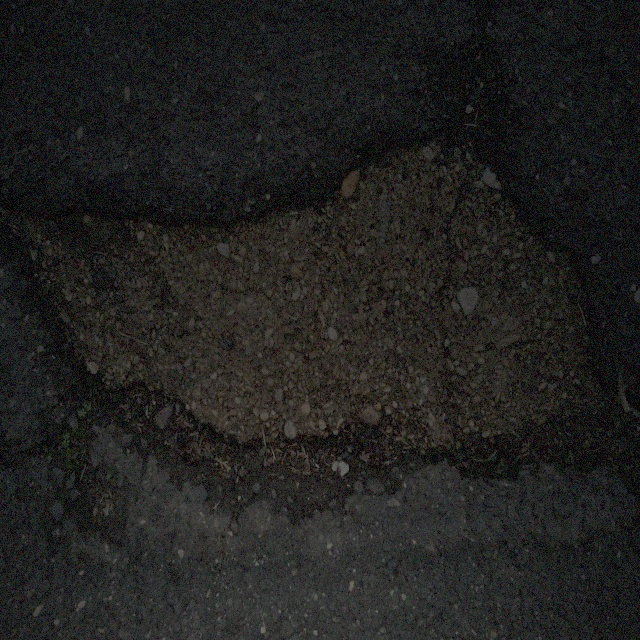pothole: (24, 130, 606, 477)
